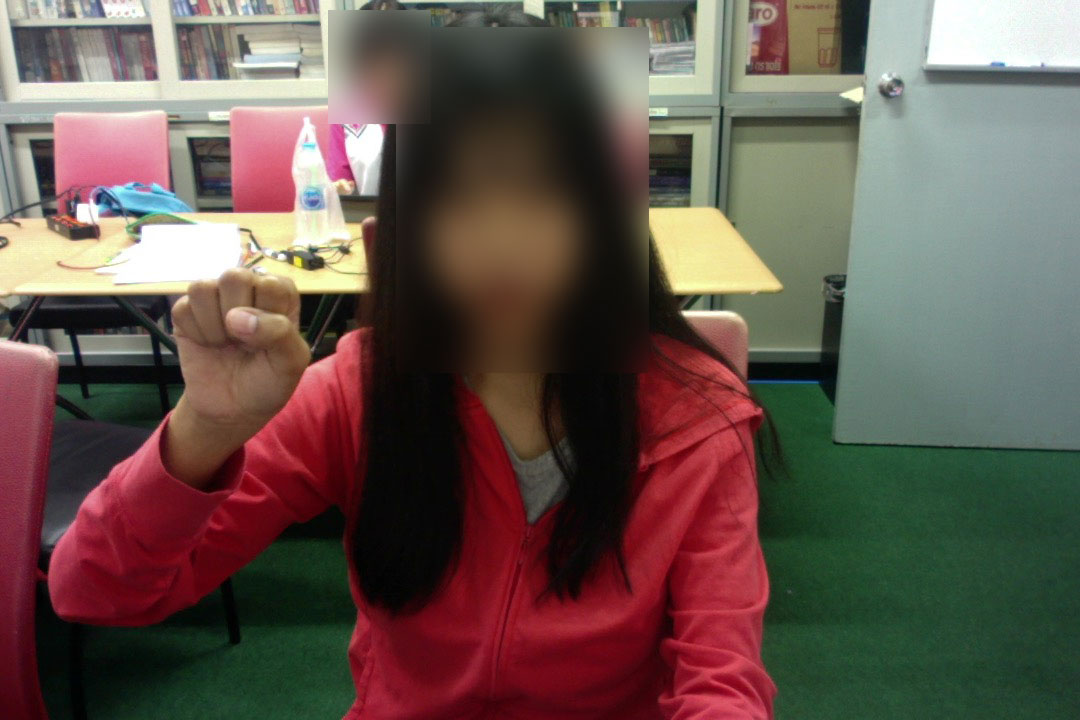sor: (163, 259, 315, 434)
